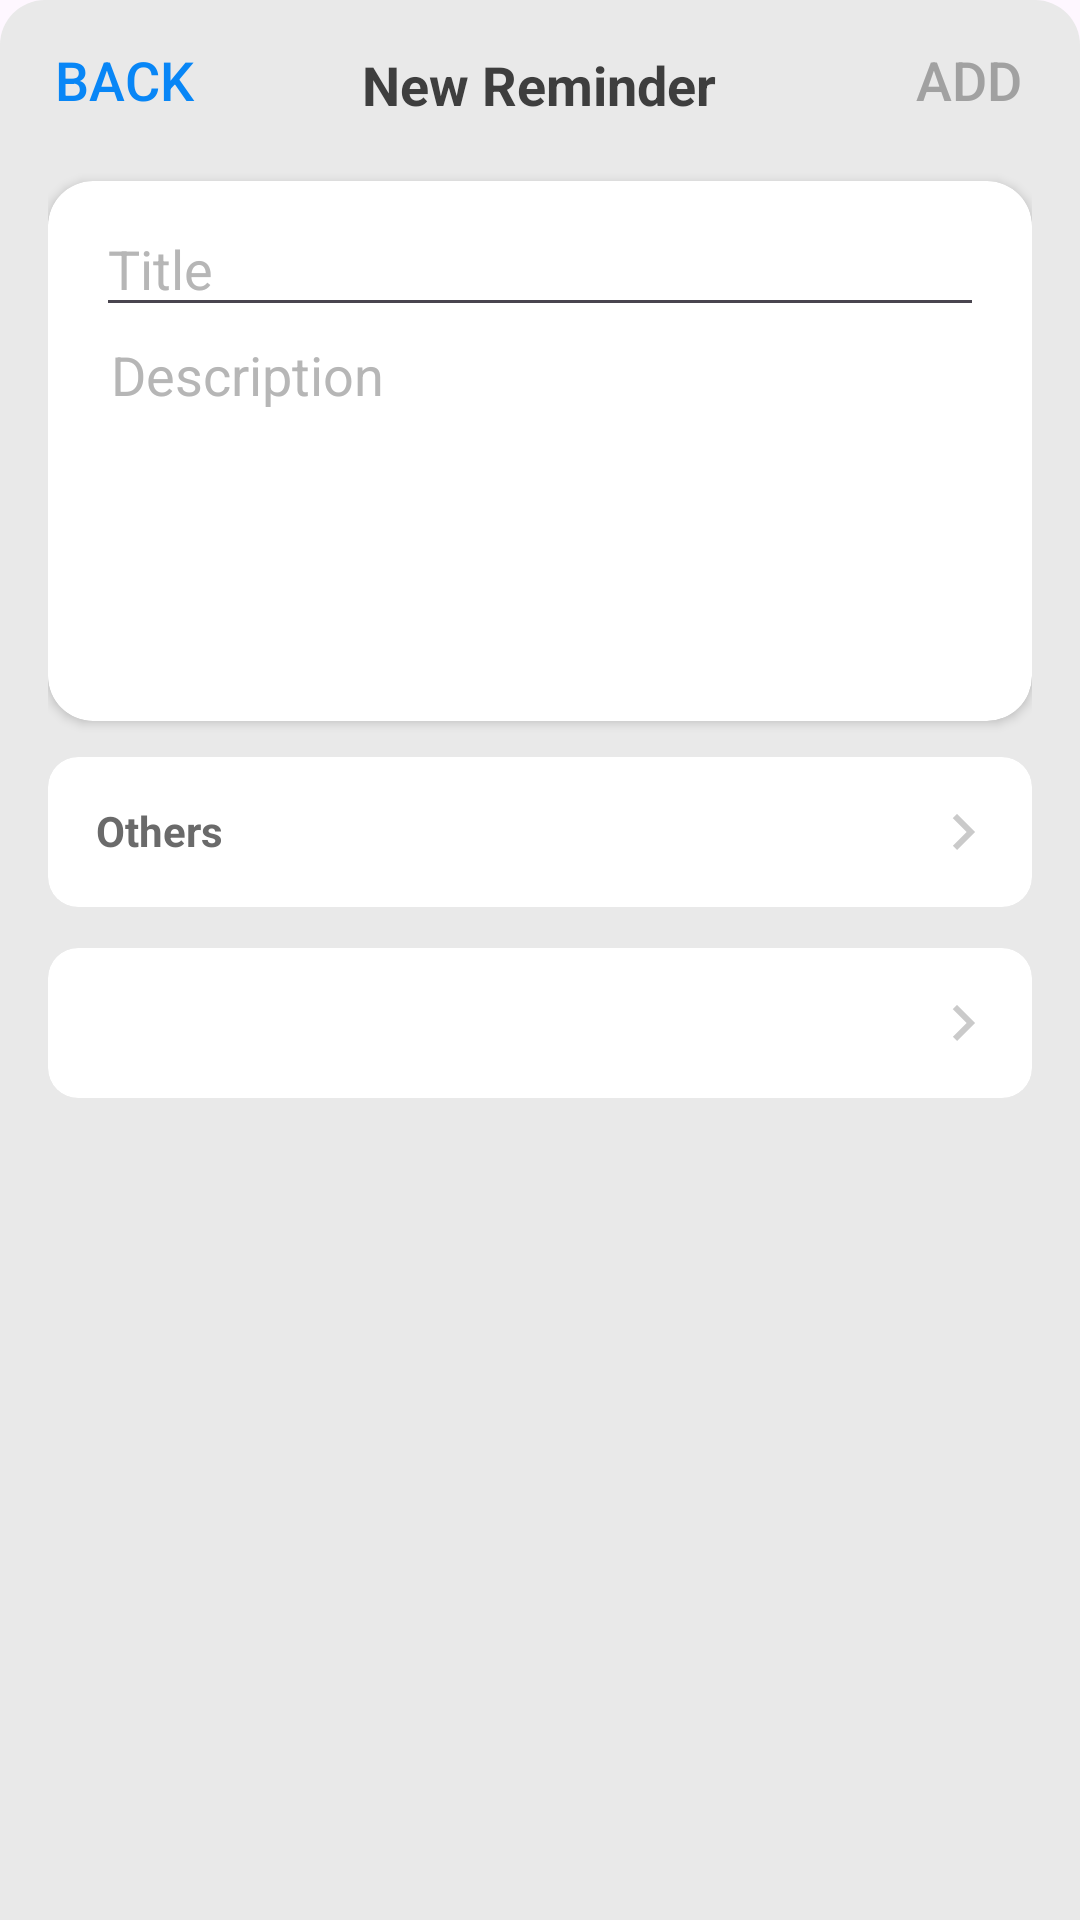

Icons on this 1080 x 1920 Android screen, each with its box as (x1, y1, x2, y2):
arrow right: (953, 814, 975, 850), (953, 1005, 975, 1041)
